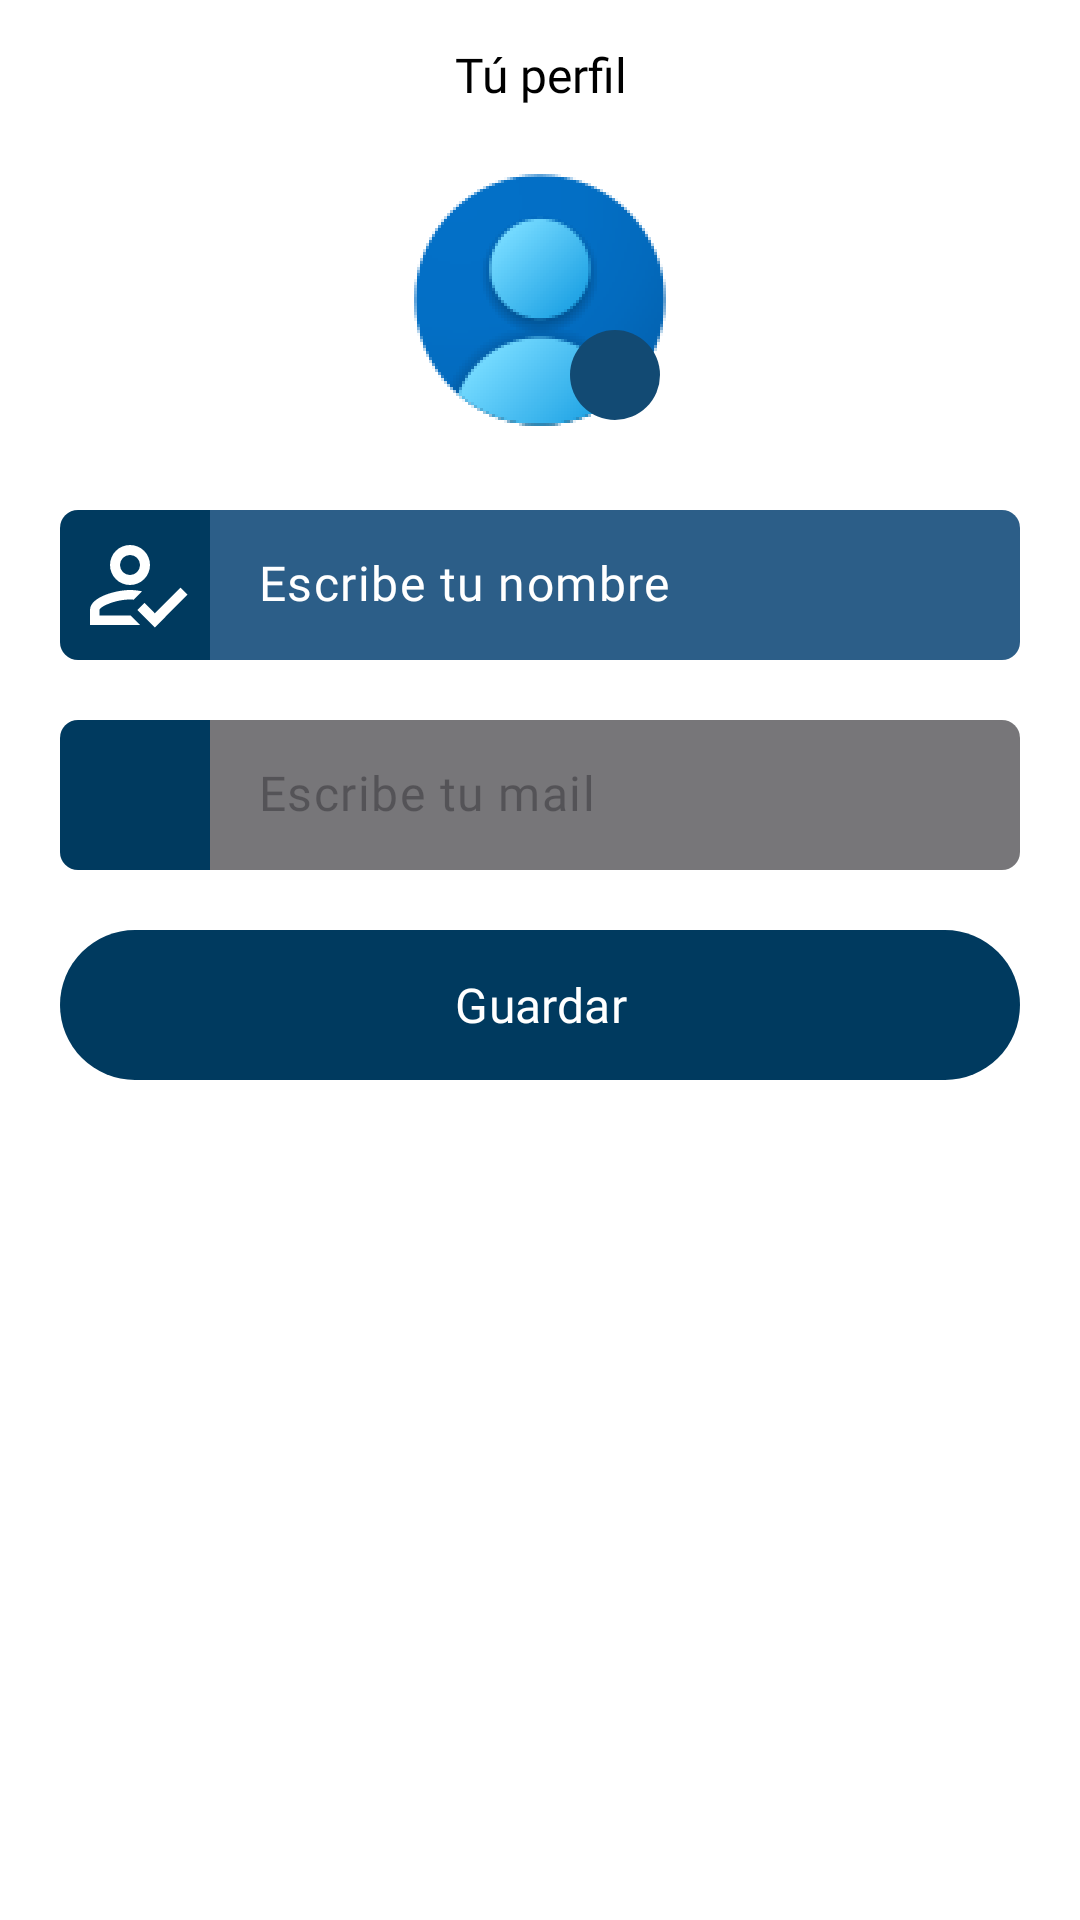

Named icons in this screenshot (1080 x 1920) and their centers, (x=x, y=y):
account check: (x=139, y=586)
